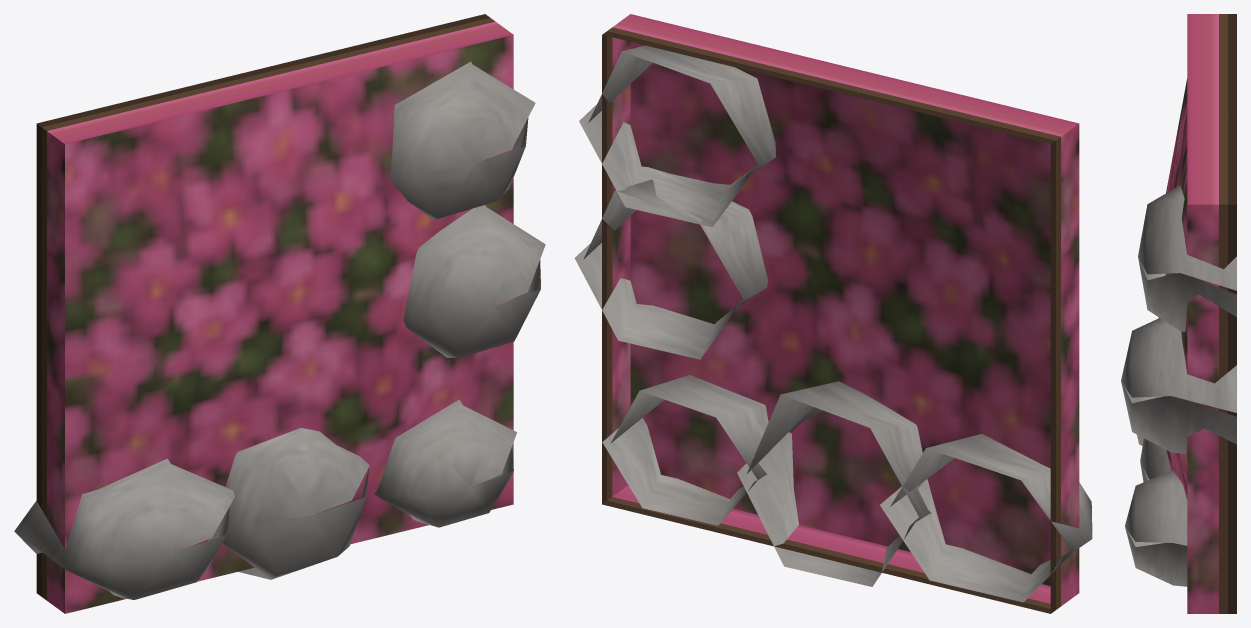
Rendered from keep-bed-magenta-stones-ne.obj.
3 views of the same model, side by side, from view 1: azimuth 30°, elevation 25°; view 2: azimuth 150°, elevation 25°; view 3: azimuth 270°, elevation 25° (orthographic). The views are drawn at different scales.
Visible parts, largest first — view 1: bed-magenta-stones-ne; view 2: bed-magenta-stones-ne; view 3: bed-magenta-stones-ne.
Part boxes in pixels (left/top/right/bottom): bed-magenta-stones-ne: left=14, top=14, right=545, bottom=613; bed-magenta-stones-ne: left=574, top=14, right=1092, bottom=613; bed-magenta-stones-ne: left=1121, top=14, right=1236, bottom=613.
Bounding box in the file's own units: 1.11 × 1.04 × 0.2568.
Materials: 1 (1 with a texture image).
